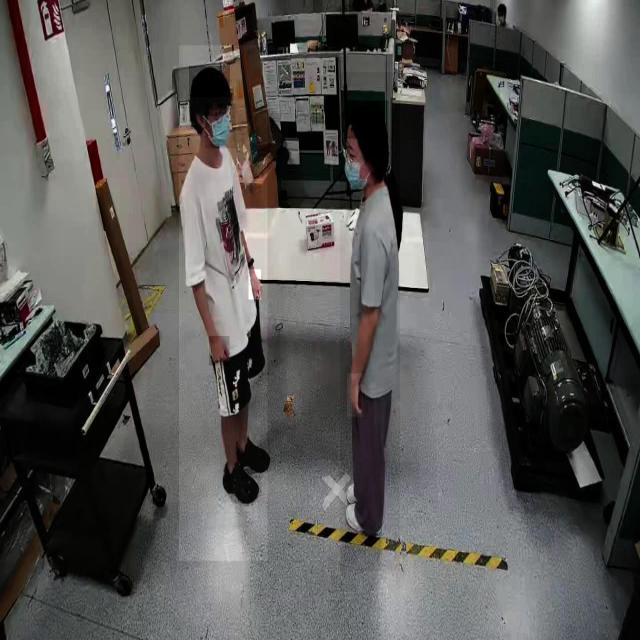face_mask: (338, 142, 366, 190), (205, 104, 235, 148)
hand_noglove: (347, 373, 363, 418), (209, 336, 230, 366), (248, 270, 262, 300)
head_nohelmet: (345, 100, 389, 140), (189, 66, 231, 98), (497, 2, 507, 10)
person: (179, 45, 268, 562), (340, 72, 400, 572)
shoes: (232, 430, 274, 483), (218, 458, 260, 506), (344, 474, 390, 511), (342, 501, 386, 538)
